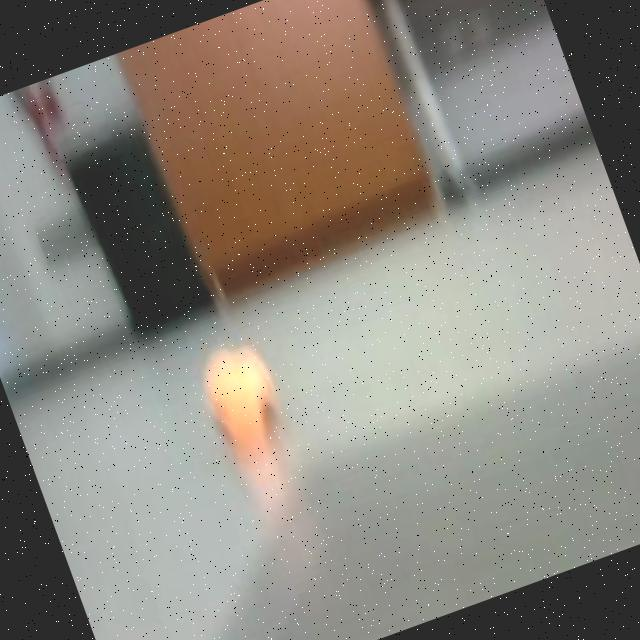ping-pong-ball: (179, 325, 300, 460)
